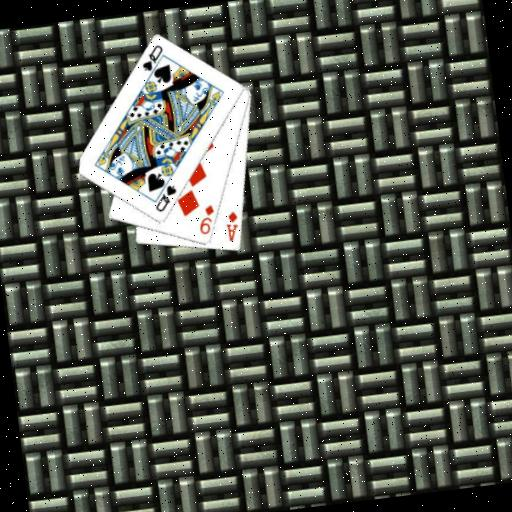9D: (194, 202, 218, 238)
AD: (221, 208, 242, 244)
QS: (150, 181, 180, 214), (137, 42, 167, 74)
